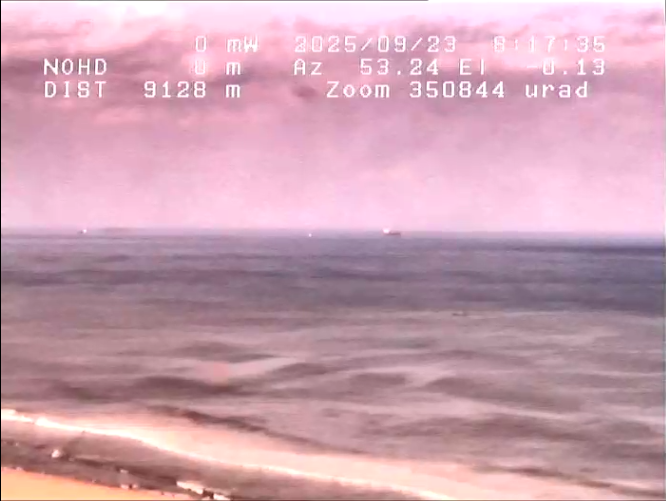TANKER: (378, 226, 405, 239)
